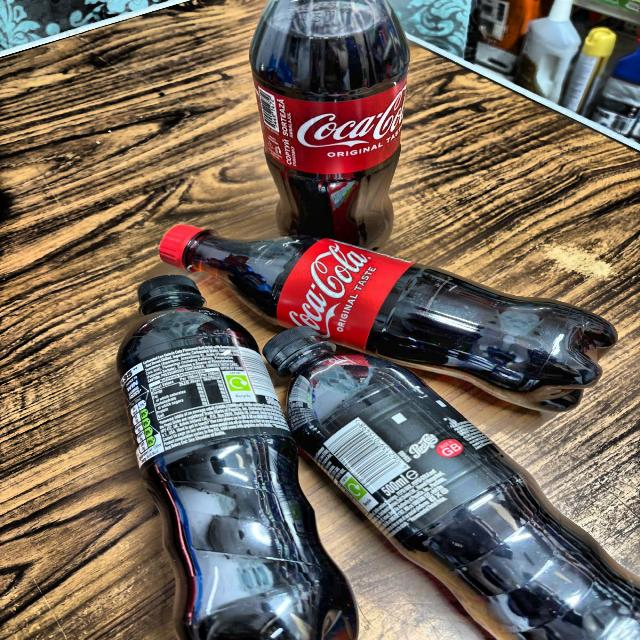coke-bottle: (166, 216, 630, 418), (251, 0, 418, 244)
pepsi-bottle: (258, 310, 640, 640), (133, 276, 355, 640)
